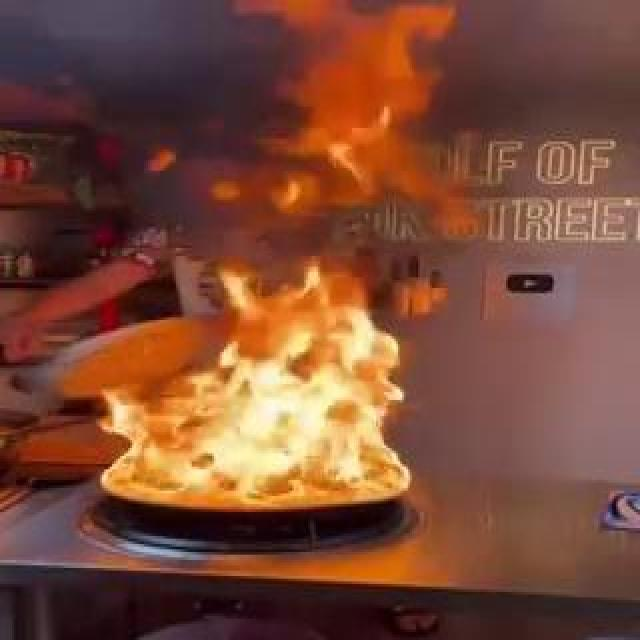Fire: (80, 130, 438, 514)
